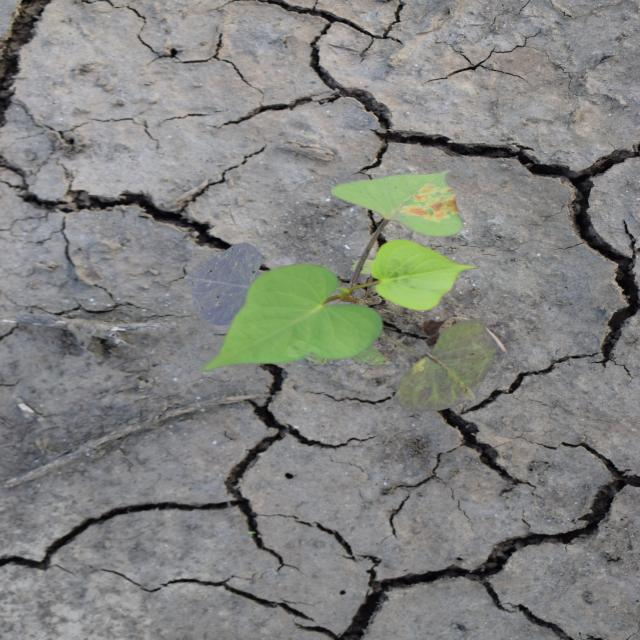MorningGlory: (201, 169, 499, 414)
